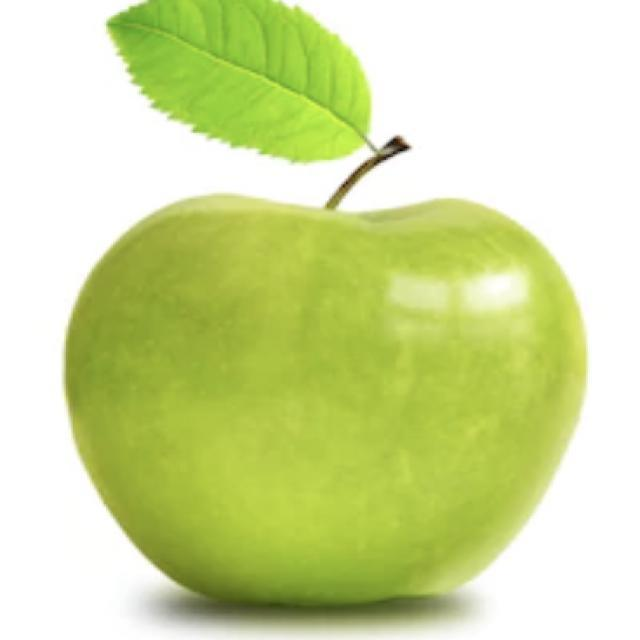Fresh Apple: (54, 185, 578, 602)
